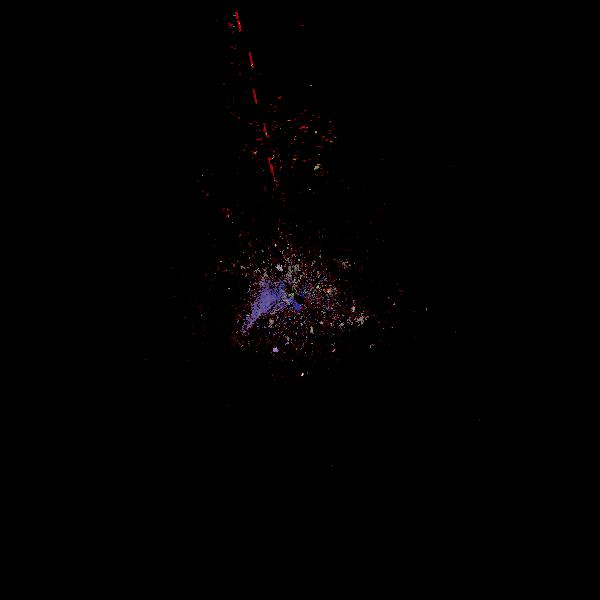roost: (298, 371, 307, 380)
